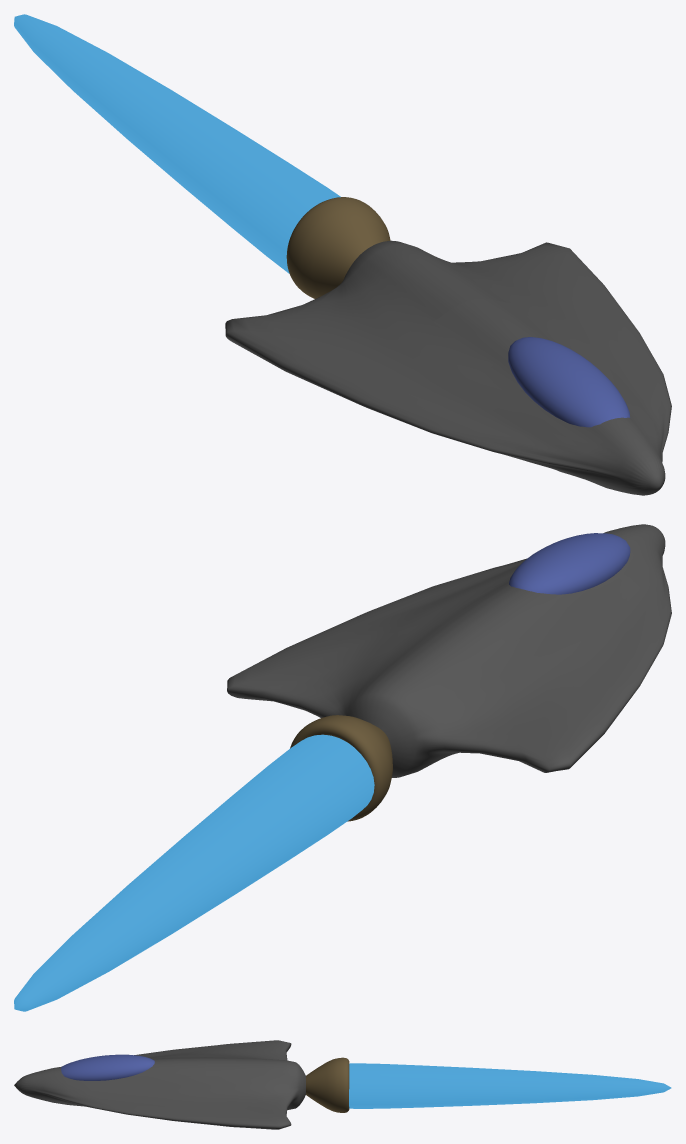
The model's file is spaceship.glb.
3 views of the same model, one above another, from view 1: azimuth 30°, elevation 25°; view 2: azimuth 150°, elevation 25°; view 3: azimuth 270°, elevation 25° (orthographic). The views are drawn at different scales.
Visible parts, largest first — view 1: Ship, Sphere.001; view 2: Ship, Sphere.001; view 3: Ship, Sphere.001.
Part boxes in pixels (box(x1,y1,x2,y2)): Ship: box(225, 197, 671, 495); Sphere.001: box(14, 14, 340, 273); Ship: box(227, 524, 671, 821); Sphere.001: box(14, 734, 374, 1011); Ship: box(14, 1040, 349, 1129); Sphere.001: box(349, 1063, 671, 1108).
Bounding box in the file's own units: 3.89 × 1.12 × 12.64.
